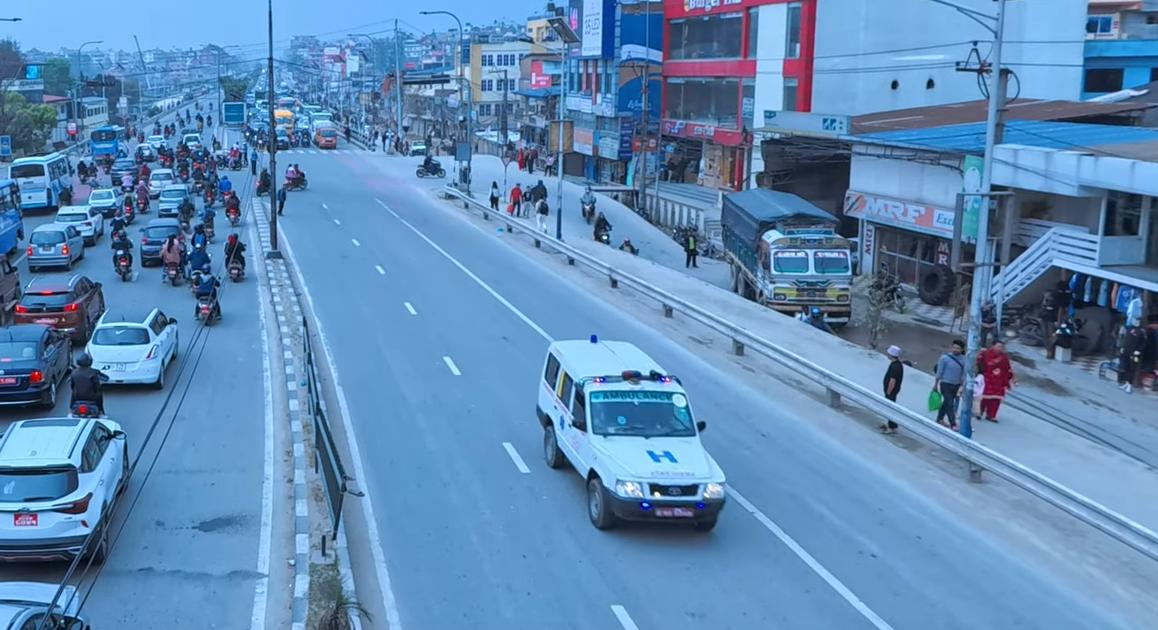ambulance: (538, 332, 735, 541)
bus: (3, 147, 78, 215), (84, 122, 128, 159)
car: (0, 414, 137, 573), (0, 322, 76, 412), (12, 271, 109, 339)
truck: (718, 183, 859, 333)
